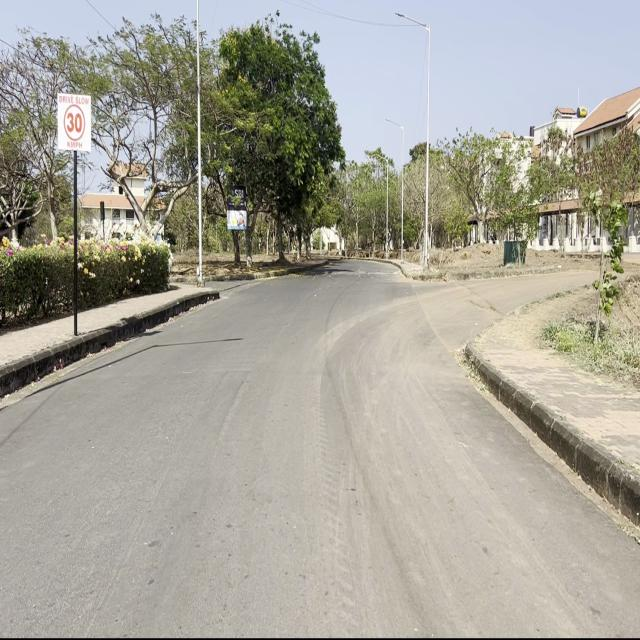Road: (3, 260, 637, 634)
